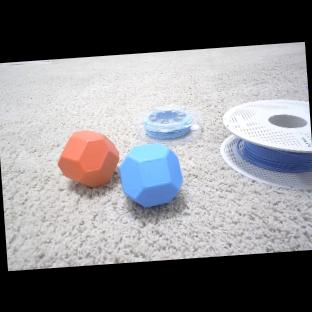V5_BLUE: (118, 140, 186, 209)
V5_RED: (55, 126, 122, 190)
